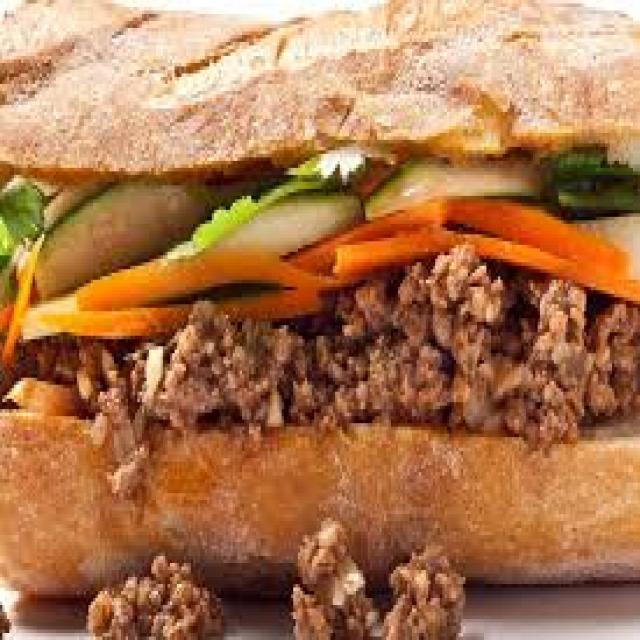organic waste: (0, 0, 638, 588), (286, 266, 638, 448), (11, 186, 358, 326), (96, 294, 300, 493), (286, 192, 631, 273), (332, 231, 638, 294), (21, 189, 209, 290), (368, 150, 558, 220), (84, 546, 221, 636), (70, 248, 323, 287), (30, 294, 326, 325), (289, 524, 370, 636), (380, 532, 466, 636), (554, 147, 638, 217), (0, 238, 40, 360), (193, 196, 268, 241), (0, 175, 47, 241), (284, 140, 372, 175), (7, 374, 79, 406), (0, 598, 5, 626)
